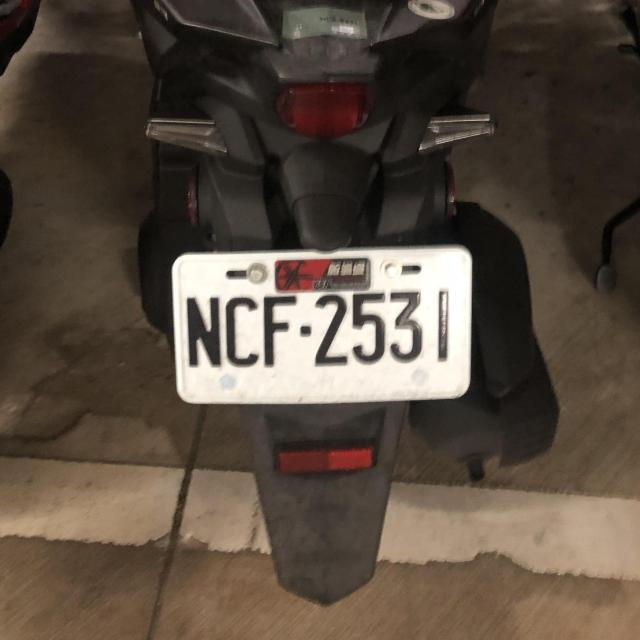W: (166, 237, 479, 408)
